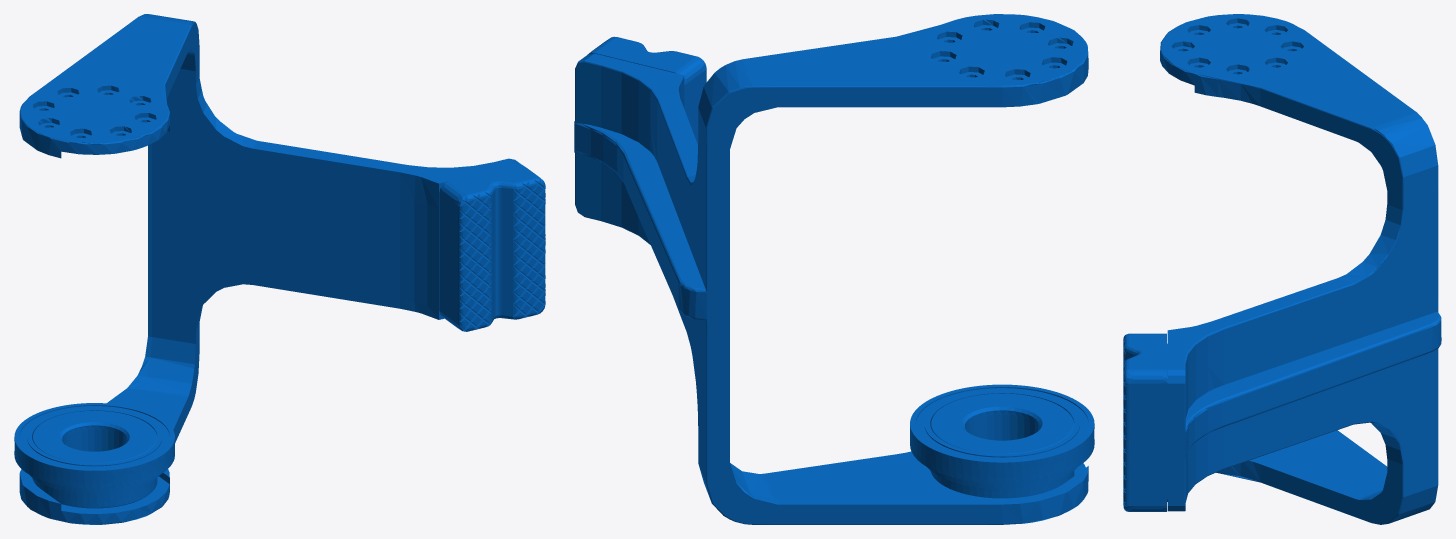
The model's file is qbmove_finger_up_m.dae.
3 views of the same model, side by side, from view 1: azimuth 30°, elevation 25°; view 2: azimuth 150°, elevation 25°; view 3: azimuth 270°, elevation 25° (orthographic). The views are drawn at different scales.
Visible parts, largest first — view 1: Body_1, Body_4, Body_2, Body_3; view 2: Body_1, Body_2, Body_3, Body_4; view 3: Body_1, Body_4.
Part boxes in pixels (<box>): Body_1: <box>19,14,520,524</box>; Body_4: <box>439,164,545,331</box>; Body_2: <box>30,410,159,508</box>; Body_3: <box>14,403,174,488</box>; Body_1: <box>574,14,1088,524</box>; Body_2: <box>927,393,1077,498</box>; Body_3: <box>910,384,1094,483</box>; Body_4: <box>587,36,706,144</box>; Body_1: <box>1160,14,1441,524</box>; Body_4: <box>1123,333,1166,511</box>.
Bounding box in the file's own units: 0.1075 × 0.0612 × 0.084.
